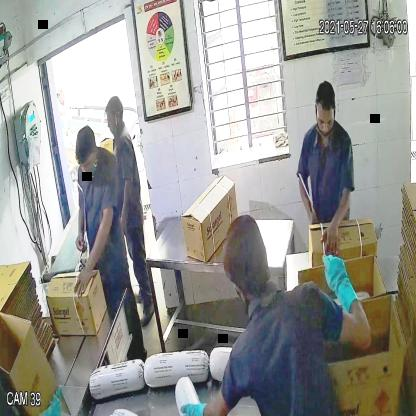no_goggles: (313, 107, 340, 134)
